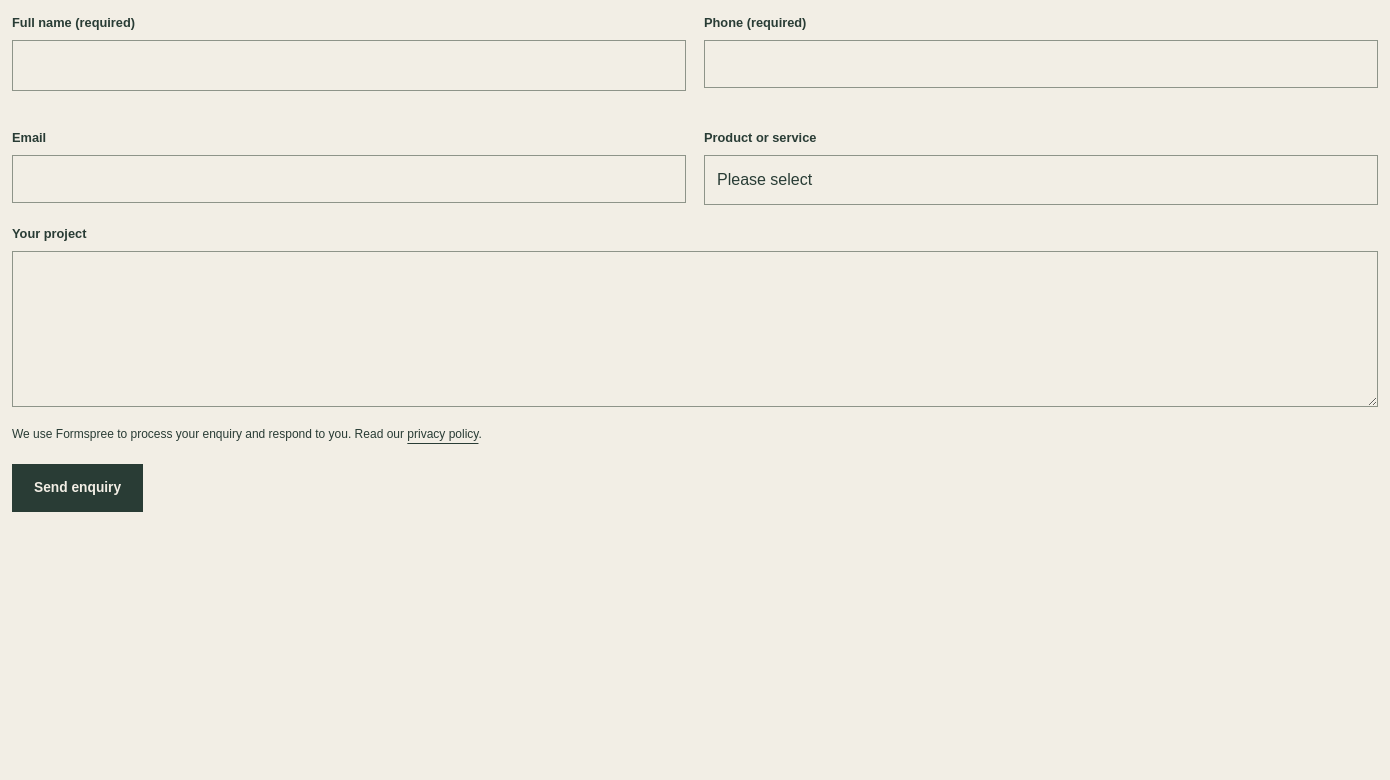
it: successful delivery confirms receipt and clears entered details
Type "Test Person" into the field labelled "Full name (required)" at (349, 65), box 12,40 -> 686,90
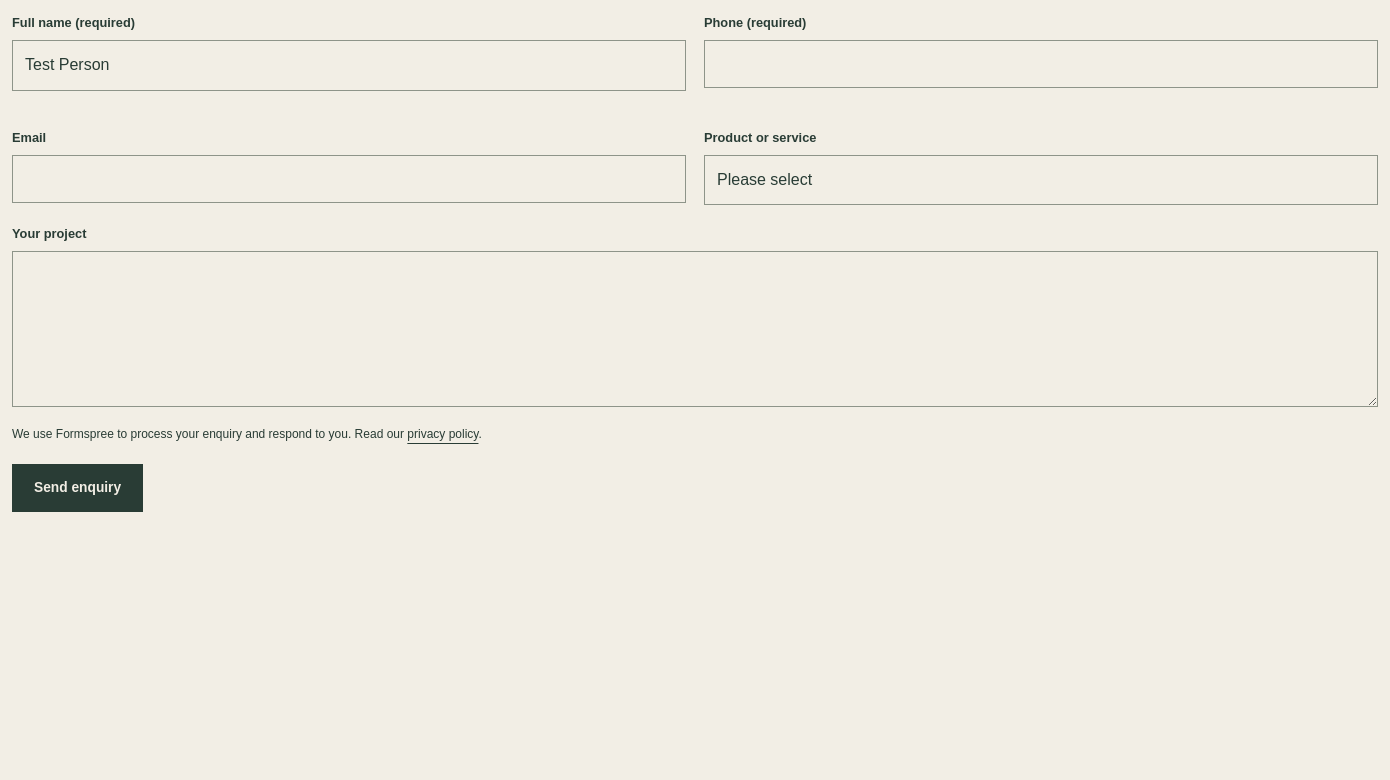
Type "1234567890" into the field labelled "Phone (required)" at (1041, 64), box 704,40 -> 1378,88
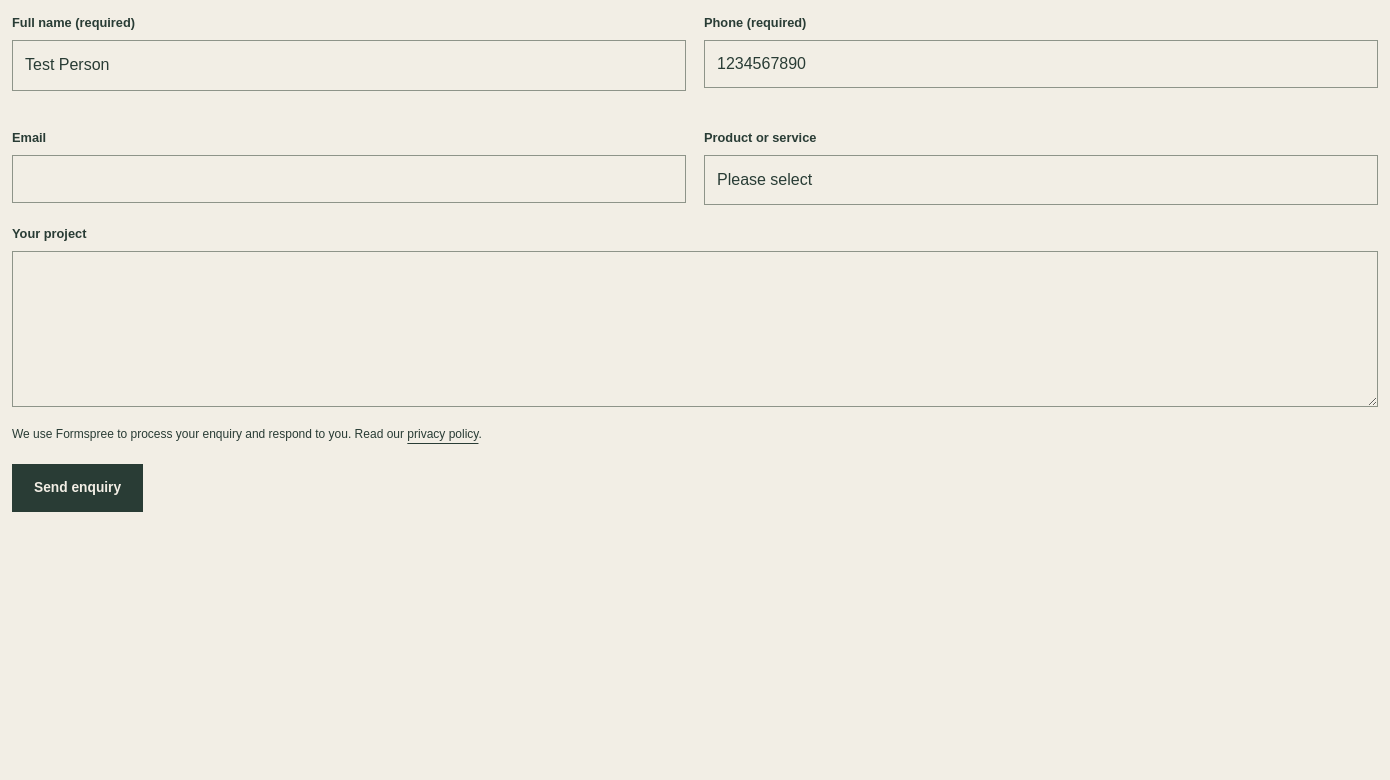
Click the button "Send enquiry" at (78, 488), box 12,464 -> 143,512
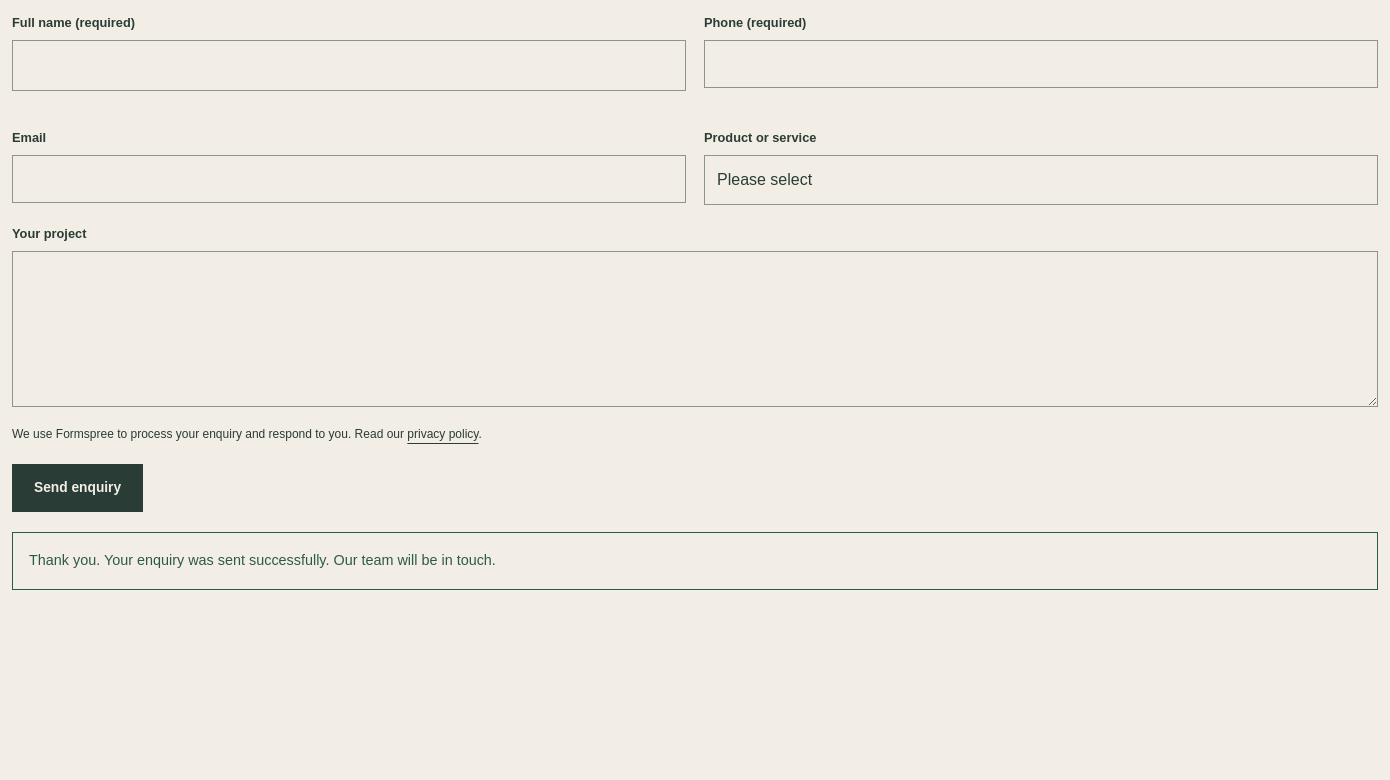
Now the text "Your enquiry was sent successfully" is shown, box 29,552 -> 496,568
Now the field labelled "Full name (required)" is empty, box 12,40 -> 686,90
